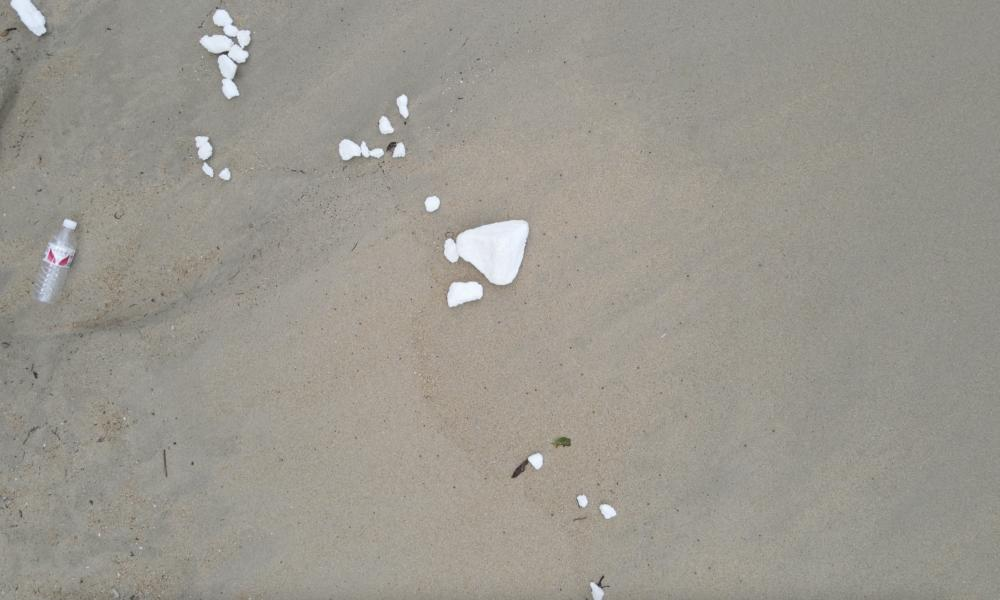plastic bottle: (38, 220, 79, 304)
styrofoam: (459, 218, 529, 284), (209, 9, 249, 44), (12, 0, 49, 36), (447, 279, 484, 309), (221, 59, 239, 97), (202, 31, 232, 53), (338, 134, 360, 162), (194, 132, 212, 162), (444, 234, 458, 266), (378, 113, 396, 134), (398, 90, 411, 119), (424, 194, 440, 211)
